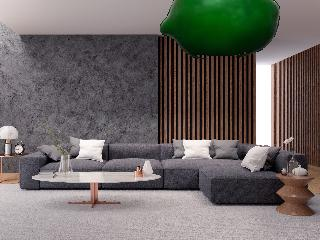lime: (159, 0, 279, 60)
